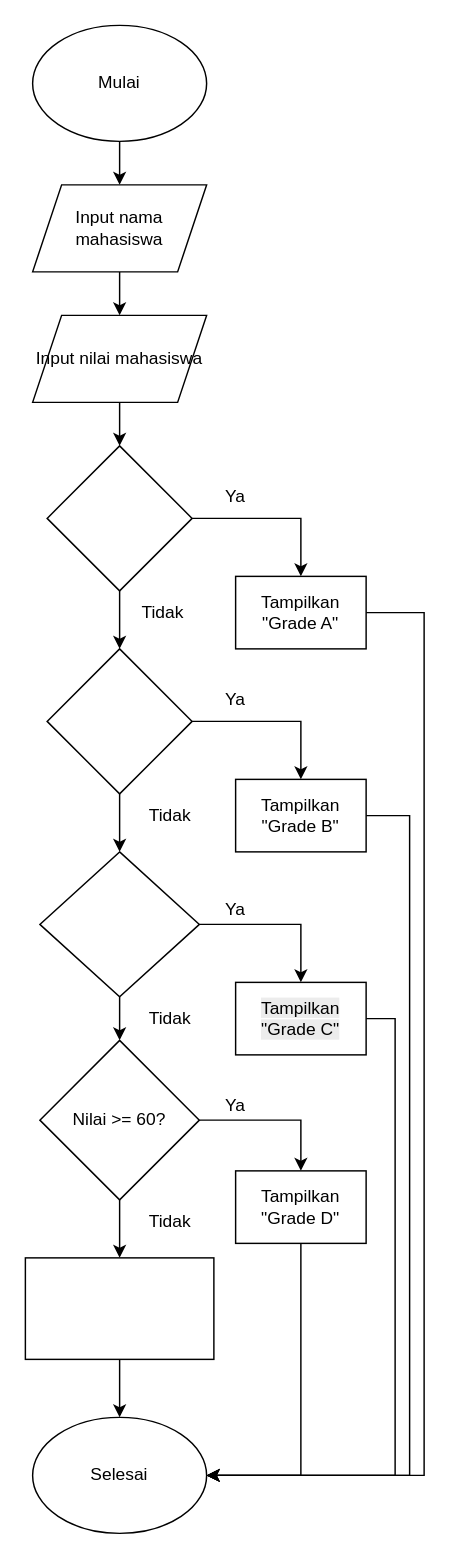
The diagram is 461 pixels wide and 1559 high, and some of its shapes have lost their labels. The centre of each missing label's shape, as x and y in pixels:
Nilai >= 70?: (118,923)
Nilai >= 80?: (119,720)
Nilai >= 90?: (119,517)
Tampilkan "Grade E": (119,1307)
